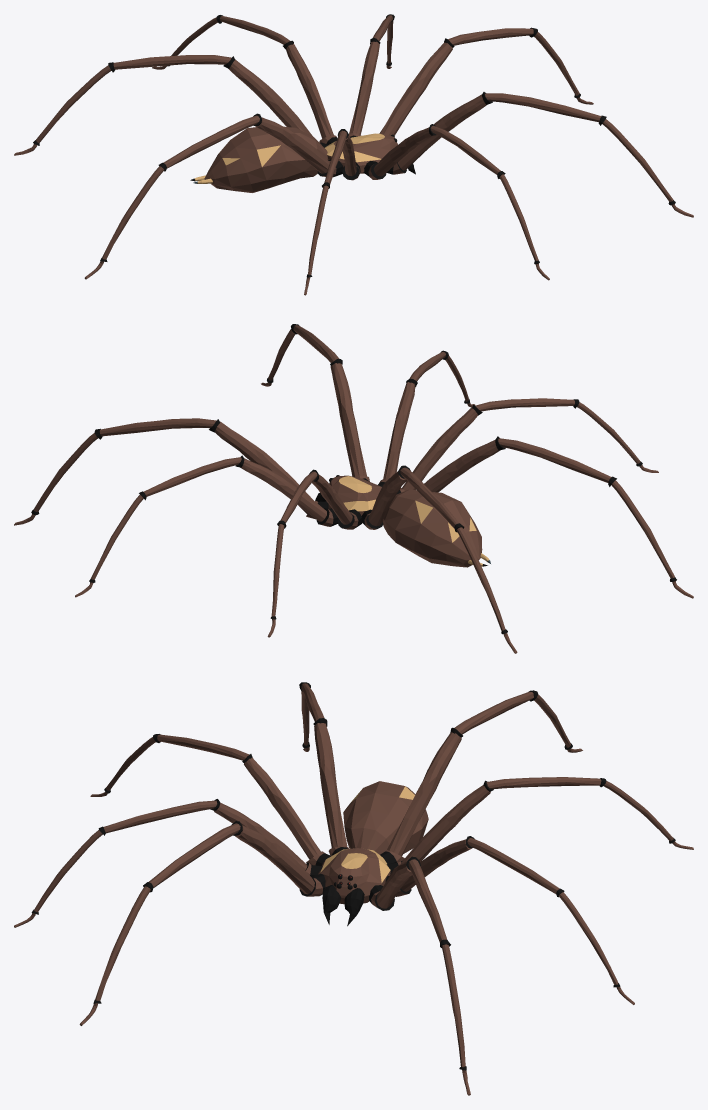
3 views of the same model, one above another, from view 1: azimuth 30°, elevation 25°; view 2: azimuth 150°, elevation 25°; view 3: azimuth 270°, elevation 25° (orthographic). The views are drawn at different scales.
Parts seen in each view (by area): view 1: node_MeshObject1183647744-PolyPaper23, node_MeshObject1755726848-PolyPaper20; view 2: node_MeshObject1183647744-PolyPaper23, node_MeshObject1755726848-PolyPaper20; view 3: node_MeshObject1183647744-PolyPaper23, node_MeshObject1755726848-PolyPaper20.
Part boxes in pixels (box(x1,y1,x2,y2)): node_MeshObject1183647744-PolyPaper23: box(14, 14, 693, 295); node_MeshObject1755726848-PolyPaper20: box(33, 27, 593, 192); node_MeshObject1183647744-PolyPaper23: box(75, 324, 693, 653); node_MeshObject1755726848-PolyPaper20: box(14, 418, 507, 634); node_MeshObject1183647744-PolyPaper23: box(14, 682, 693, 1025); node_MeshObject1755726848-PolyPaper20: box(343, 743, 572, 1095).
Bounding box in the file's own units: 2.78 × 0.6517 × 2.46.
